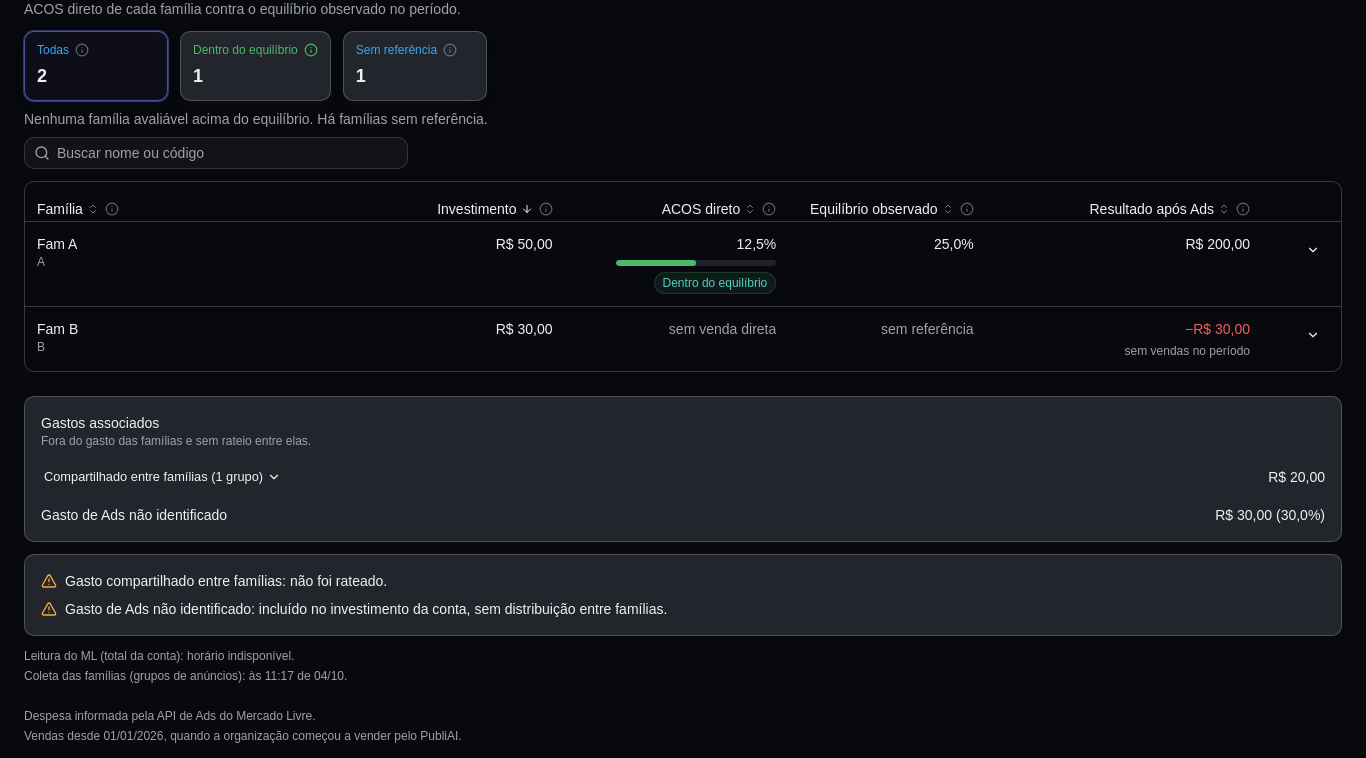
Test: Ads › grupo sem família (só anúncio sem código): rótulo "sem código identificado"
The image size is (1366, 758).
(page scrolled)
Click the button "Compartilhado entre famílias (1 grupo)": click(163, 477) [33,461,292,493]
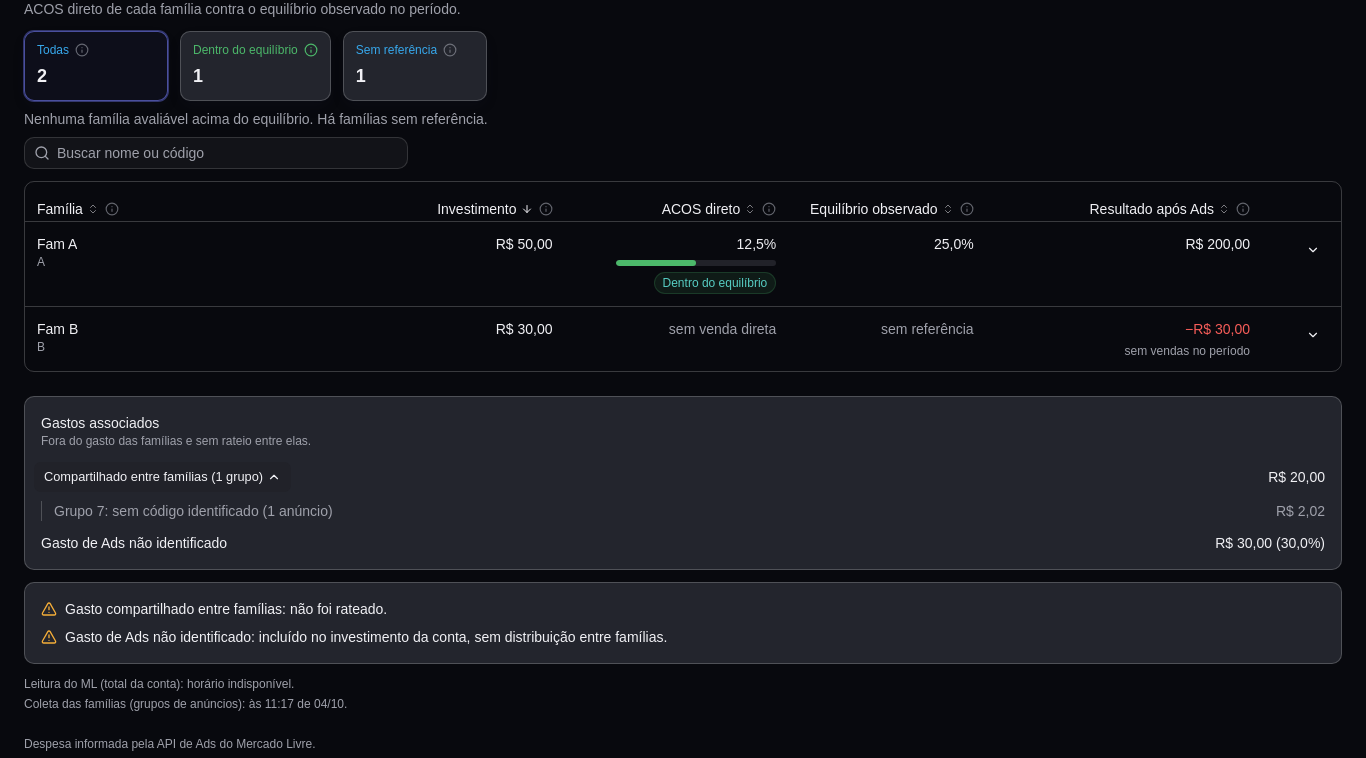
Check: the text "Grupo 7: sem código identificado (1 anúncio)" is shown, box [54,501,333,521]
